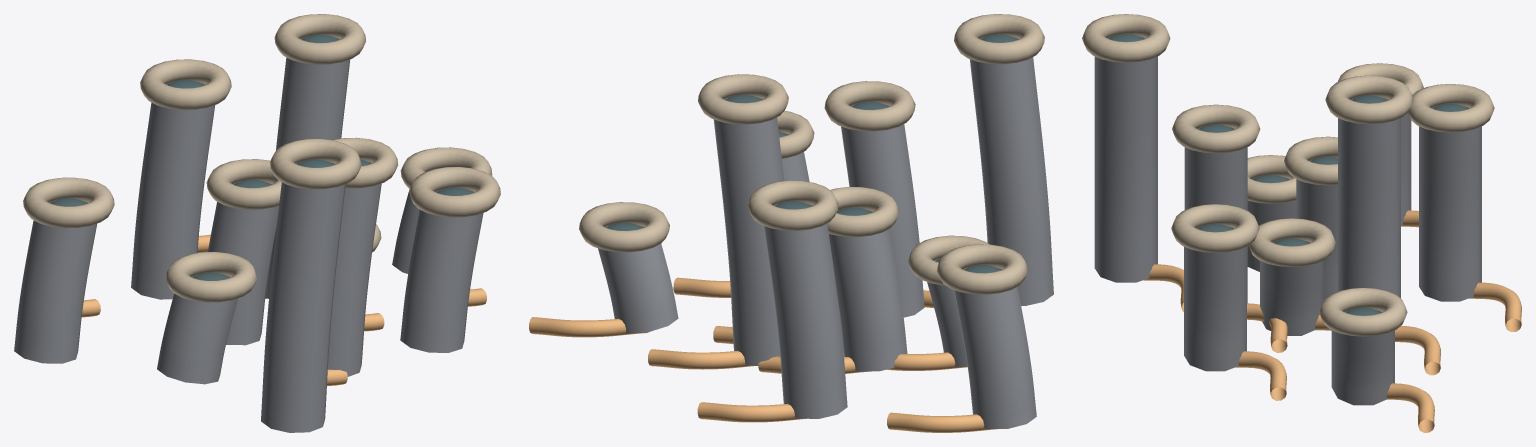
Rendered from bio_thermal_colony_01_near.glb.
The picture shows the model from 3 angles, left to right: view 1: azimuth 30°, elevation 25°; view 2: azimuth 150°, elevation 25°; view 3: azimuth 270°, elevation 25°; orthographic projection. The views are drawn at different scales.
Visible parts, largest first — view 1: Chimney biofilm.007, Chimney biofilm.006, Chimney biofilm.005, Chimney biofilm.009, Chimney biofilm.002, Chimney biofilm.003, Chimney biofilm.004, Chimney biofilm.001, Open vent rim.007, Open vent rim.004, Open vent rim.009, Open vent rim.006 (+6 smaller); view 2: Chimney biofilm.007, Chimney biofilm.006, Chimney biofilm.003, Chimney biofilm.009, Chimney biofilm.001, Chimney biofilm.002, Chimney biofilm.008, Open vent rim.006, Open vent rim.009, Open vent rim.002, Open vent rim.003, Open vent rim.007 (+13 smaller); view 3: Chimney biofilm.007, Chimney biofilm.003, Chimney biofilm.006, Chimney biofilm.005, Chimney biofilm.008, Chimney biofilm, Chimney biofilm.002, Open vent rim.005, Open vent rim.007, Open vent rim.008, Open vent rim.003, Open vent rim.002 (+14 smaller).
Part boxes in pixels (left/top/right/bottom): Chimney biofilm.007: left=261, top=162, right=345, bottom=432; Chimney biofilm.006: left=131, top=82, right=215, bottom=299; Chimney biofilm.005: left=400, top=190, right=483, bottom=352; Chimney biofilm.009: left=14, top=200, right=96, bottom=363; Chimney biofilm.002: left=327, top=161, right=381, bottom=376; Chimney biofilm.003: left=265, top=37, right=350, bottom=298; Chimney biofilm.004: left=157, top=275, right=237, bottom=384; Chimney biofilm.001: left=208, top=182, right=278, bottom=345; Open vent rim.007: left=270, top=138, right=361, bottom=189; Open vent rim.004: left=165, top=252, right=256, bottom=302; Open vent rim.009: left=23, top=177, right=114, bottom=228; Open vent rim.006: left=140, top=59, right=231, bottom=109; Chimney biofilm.007: left=969, top=37, right=1053, bottom=305; Chimney biofilm.006: left=764, top=204, right=847, bottom=418; Chimney biofilm.003: left=713, top=97, right=784, bottom=365; Chimney biofilm.009: left=954, top=267, right=1036, bottom=429; Chimney biofilm.001: left=829, top=210, right=907, bottom=371; Chimney biofilm.002: left=841, top=104, right=924, bottom=317; Chimney biofilm.008: left=598, top=226, right=678, bottom=333; Open vent rim.006: left=747, top=180, right=838, bottom=230; Open vent rim.009: left=937, top=244, right=1027, bottom=294; Open vent rim.002: left=824, top=81, right=915, bottom=131; Open vent rim.003: left=698, top=74, right=788, bottom=124; Open vent rim.007: left=954, top=14, right=1044, bottom=64; Chimney biofilm.007: left=1094, top=36, right=1157, bottom=282; Chimney biofilm.003: left=1338, top=98, right=1400, bottom=298; Chimney biofilm.006: left=1419, top=106, right=1481, bottom=301; Chimney biofilm.005: left=1184, top=227, right=1246, bottom=371; Chimney biofilm.008: left=1331, top=311, right=1394, bottom=405; Chimney biofilm: left=1260, top=241, right=1323, bottom=335; Chimney biofilm.002: left=1184, top=127, right=1247, bottom=303; Open vent rim.005: left=1171, top=204, right=1259, bottom=252; Open vent rim.007: left=1082, top=14, right=1170, bottom=62; Open vent rim.008: left=1319, top=287, right=1407, bottom=336; Open vent rim.003: left=1325, top=75, right=1413, bottom=124; Open vent rim.002: left=1172, top=104, right=1260, bottom=153.
Bounding box in the file's own units: 1.68 × 0.9095 × 1.39.
